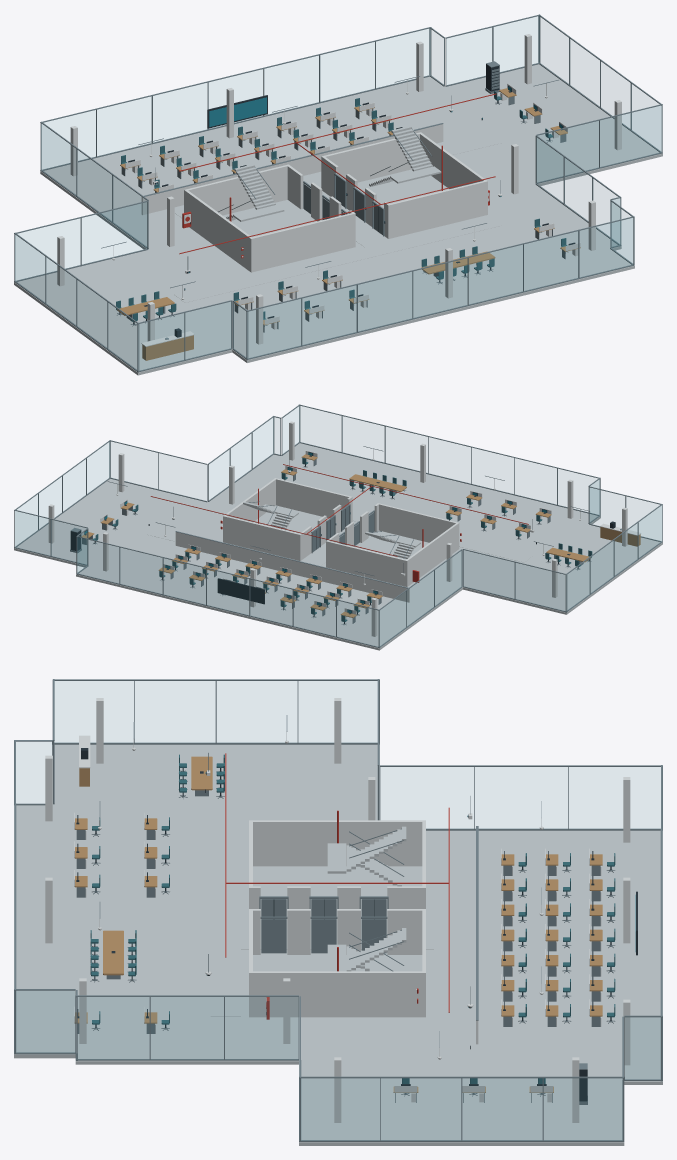
3 views of the same model, one above another, from view 1: azimuth 30°, elevation 25°; view 2: azimuth 150°, elevation 25°; view 3: azimuth 270°, elevation 25° (orthographic). The views are drawn at different scales.
Parts seen in each view (by area): view 1: T1_F04_SLAB, T1_F04_WHITE, T1_F04_GLASS_S, T1_F04_GLASS_N, T1_F04_STEEL, T1_F04_GLASS_W, T1_F04_GLASS_E, T1_F04_WOOD, T1_F04_FABRIC, T1_F04_RED, T1_F04_DARK, T1_F04_SCREEN; view 2: T1_F04_SLAB, T1_F04_WHITE, T1_F04_GLASS_N, T1_F04_GLASS_S, T1_F04_STEEL, T1_F04_GLASS_W, T1_F04_GLASS_E, T1_F04_WOOD, T1_F04_DARK, T1_F04_FABRIC, T1_F04_RED, T1_F04_SCREEN; view 3: T1_F04_SLAB, T1_F04_GLASS_E, T1_F04_GLASS_W, T1_F04_WHITE, T1_F04_STEEL, T1_F04_WOOD, T1_F04_FABRIC, T1_F04_DARK, T1_F04_RED.
Part boxes in pixels (x1,y1,x2,y2): T1_F04_SLAB: (14, 64, 662, 375); T1_F04_WHITE: (57, 34, 621, 346); T1_F04_GLASS_S: (140, 106, 660, 370); T1_F04_GLASS_N: (19, 17, 538, 267); T1_F04_STEEL: (14, 14, 662, 372); T1_F04_GLASS_W: (15, 125, 245, 369); T1_F04_GLASS_E: (431, 18, 657, 243); T1_F04_WOOD: (117, 88, 580, 360); T1_F04_FABRIC: (116, 90, 567, 321); T1_F04_RED: (179, 93, 496, 258); T1_F04_DARK: (119, 64, 575, 337); T1_F04_SCREEN: (156, 86, 562, 289); T1_F04_SLAB: (14, 443, 662, 650); T1_F04_WHITE: (48, 421, 641, 636); T1_F04_GLASS_N: (15, 512, 564, 646); T1_F04_GLASS_S: (110, 406, 657, 527); T1_F04_STEEL: (14, 404, 662, 648); T1_F04_GLASS_W: (380, 480, 661, 645); T1_F04_GLASS_E: (18, 408, 298, 536); T1_F04_WOOD: (81, 454, 640, 617); T1_F04_DARK: (70, 452, 615, 623); T1_F04_FABRIC: (92, 457, 592, 621); T1_F04_RED: (150, 464, 528, 582); T1_F04_SCREEN: (84, 452, 546, 613); T1_F04_SLAB: (14, 744, 662, 1145); T1_F04_GLASS_E: (16, 991, 660, 1139); T1_F04_GLASS_W: (16, 681, 660, 828); T1_F04_WHITE: (45, 698, 630, 1122); T1_F04_STEEL: (14, 679, 662, 1141); T1_F04_WOOD: (74, 756, 602, 1092); T1_F04_FABRIC: (90, 754, 615, 1083); T1_F04_DARK: (76, 748, 637, 1101); T1_F04_RED: (225, 753, 449, 1019).
Size of the model in its own units: 55.47 by 4.5 by 38.19.
